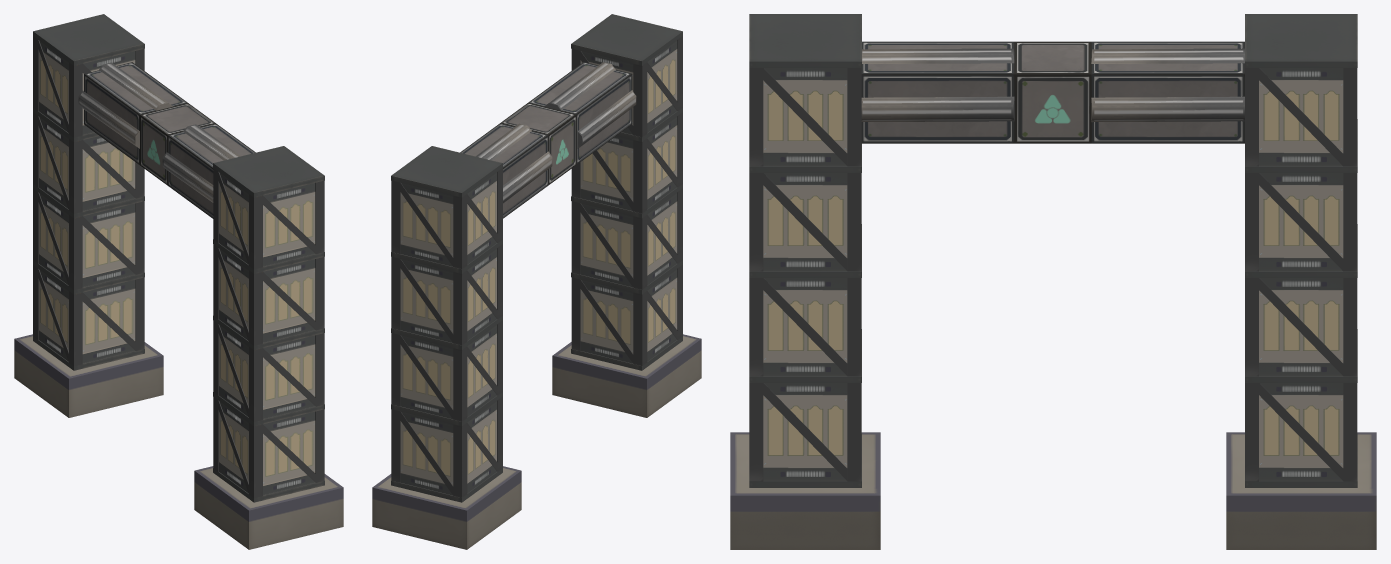
The model's file is Sci-Fi_Prefab_Var13.fbx.
3 views of the same model, side by side, from view 1: azimuth 30°, elevation 25°; view 2: azimuth 150°, elevation 25°; view 3: azimuth 270°, elevation 25° (orthographic). The views are drawn at different scales.
Parts seen in each view (by area): view 1: ProjectRG_Environment_Sci-Fi_BaseFoundation_Small.004, ProjectRG_Environment_Sci-Fi_BaseFoundation_Small.005, ProjectRG_Environment_Sci-Fi_TowerTopBlockPiece_Var1.012, ProjectRG_Environment_Sci-Fi_TowerTopBlockPiece_Var1.013, ProjectRG_Environment_Sci-Fi_TowerTopBlockPiece_Var1.009, ProjectRG_Environment_Sci-Fi_TowerTopBlockPiece_Var1.010, ProjectRG_Environment_Sci-Fi_TowerTopBlockPiece_Var1.008, ProjectRG_Environment_Sci-Fi_TowerTopBlockPiece_Var1.011, ProjectRG_Environment_Sci-Fi_TowerTopBlockPiece_Var1.014, ProjectRG_Environment_Sci-Fi_ModBlock_Long.001, ProjectRG_Environment_Sci-Fi_TowerPanel_Var3_B.024, ProjectRG_Environment_Sci-Fi_TowerPanel_Var3_B.029 (+22 smaller); view 2: ProjectRG_Environment_Sci-Fi_BaseFoundation_Small.005, ProjectRG_Environment_Sci-Fi_BaseFoundation_Small.004, ProjectRG_Environment_Sci-Fi_TowerTopBlockPiece_Var1.009, ProjectRG_Environment_Sci-Fi_TowerTopBlockPiece_Var1.008, ProjectRG_Environment_Sci-Fi_TowerTopBlockPiece_Var1.014, ProjectRG_Environment_Sci-Fi_TowerTopBlockPiece_Var1.013, ProjectRG_Environment_Sci-Fi_TowerTopBlockPiece_Var1.015, ProjectRG_Environment_Sci-Fi_TowerTopBlockPiece_Var1.012, ProjectRG_Environment_Sci-Fi_TowerTopBlockPiece_Var1.010, ProjectRG_Environment_Sci-Fi_ModBlock_Long.003, ProjectRG_Environment_Sci-Fi_TowerPanel_Var3_B.029, ProjectRG_Environment_Sci-Fi_TowerPanel_Var3_B.024 (+22 smaller); view 3: ProjectRG_Environment_Sci-Fi_BaseFoundation_Small.004, ProjectRG_Environment_Sci-Fi_BaseFoundation_Small.005, ProjectRG_Environment_Sci-Fi_ModBlock_Long.001, ProjectRG_Environment_Sci-Fi_ModBlock_Long.003, ProjectRG_Environment_Sci-Fi_ModBlock_Norm.002, ProjectRG_Environment_Sci-Fi_TowerTopBlockPiece_Var1.011, ProjectRG_Environment_Sci-Fi_TowerTopBlockPiece_Var1.012, ProjectRG_Environment_Sci-Fi_TowerTopBlockPiece_Var1.013, ProjectRG_Environment_Sci-Fi_TowerTopBlockPiece_Var1.014, ProjectRG_Environment_Sci-Fi_TowerTopBlockPiece_Var1.015, ProjectRG_Environment_Sci-Fi_TowerTopBlockPiece_Var1.009, ProjectRG_Environment_Sci-Fi_TowerTopBlockPiece_Var1.010 (+23 smaller).
Boxes of the visible parts, x1,y1,x2,y2 form: ProjectRG_Environment_Sci-Fi_BaseFoundation_Small.004: (194, 466, 343, 549); ProjectRG_Environment_Sci-Fi_BaseFoundation_Small.005: (14, 334, 163, 417); ProjectRG_Environment_Sci-Fi_TowerTopBlockPiece_Var1.012: (39, 269, 135, 363); ProjectRG_Environment_Sci-Fi_TowerTopBlockPiece_Var1.013: (39, 193, 135, 287); ProjectRG_Environment_Sci-Fi_TowerTopBlockPiece_Var1.009: (219, 325, 315, 418); ProjectRG_Environment_Sci-Fi_TowerTopBlockPiece_Var1.010: (219, 249, 315, 342); ProjectRG_Environment_Sci-Fi_TowerTopBlockPiece_Var1.008: (219, 401, 315, 495); ProjectRG_Environment_Sci-Fi_TowerTopBlockPiece_Var1.011: (219, 172, 315, 266); ProjectRG_Environment_Sci-Fi_TowerTopBlockPiece_Var1.014: (39, 117, 135, 210); ProjectRG_Environment_Sci-Fi_ModBlock_Long.001: (84, 62, 187, 164); ProjectRG_Environment_Sci-Fi_TowerPanel_Var3_B.024: (213, 146, 324, 197); ProjectRG_Environment_Sci-Fi_TowerPanel_Var3_B.029: (33, 14, 144, 65); ProjectRG_Environment_Sci-Fi_BaseFoundation_Small.005: (372, 466, 521, 549); ProjectRG_Environment_Sci-Fi_BaseFoundation_Small.004: (552, 334, 701, 417); ProjectRG_Environment_Sci-Fi_TowerTopBlockPiece_Var1.009: (580, 193, 677, 287); ProjectRG_Environment_Sci-Fi_TowerTopBlockPiece_Var1.008: (580, 269, 677, 363); ProjectRG_Environment_Sci-Fi_TowerTopBlockPiece_Var1.014: (400, 248, 496, 342); ProjectRG_Environment_Sci-Fi_TowerTopBlockPiece_Var1.013: (400, 325, 496, 418); ProjectRG_Environment_Sci-Fi_TowerTopBlockPiece_Var1.015: (400, 172, 496, 266); ProjectRG_Environment_Sci-Fi_TowerTopBlockPiece_Var1.012: (400, 401, 496, 495); ProjectRG_Environment_Sci-Fi_TowerTopBlockPiece_Var1.010: (580, 116, 677, 210); ProjectRG_Environment_Sci-Fi_ModBlock_Long.003: (528, 62, 632, 164); ProjectRG_Environment_Sci-Fi_TowerPanel_Var3_B.029: (391, 146, 502, 197); ProjectRG_Environment_Sci-Fi_TowerPanel_Var3_B.024: (571, 14, 682, 65); ProjectRG_Environment_Sci-Fi_BaseFoundation_Small.004: (730, 432, 880, 549); ProjectRG_Environment_Sci-Fi_BaseFoundation_Small.005: (1226, 432, 1376, 549); ProjectRG_Environment_Sci-Fi_ModBlock_Long.001: (1091, 41, 1244, 143); ProjectRG_Environment_Sci-Fi_ModBlock_Long.003: (861, 41, 1014, 143); ProjectRG_Environment_Sci-Fi_ModBlock_Norm.002: (1014, 41, 1091, 143); ProjectRG_Environment_Sci-Fi_TowerTopBlockPiece_Var1.011: (763, 68, 847, 165); ProjectRG_Environment_Sci-Fi_TowerTopBlockPiece_Var1.012: (1259, 383, 1343, 480); ProjectRG_Environment_Sci-Fi_TowerTopBlockPiece_Var1.013: (1259, 278, 1343, 375); ProjectRG_Environment_Sci-Fi_TowerTopBlockPiece_Var1.014: (1259, 173, 1343, 270); ProjectRG_Environment_Sci-Fi_TowerTopBlockPiece_Var1.015: (1259, 68, 1343, 165); ProjectRG_Environment_Sci-Fi_TowerTopBlockPiece_Var1.009: (763, 278, 847, 375); ProjectRG_Environment_Sci-Fi_TowerTopBlockPiece_Var1.010: (763, 173, 847, 270).
Bounding box in the file's own units: 1259 × 4434 × 5407.
